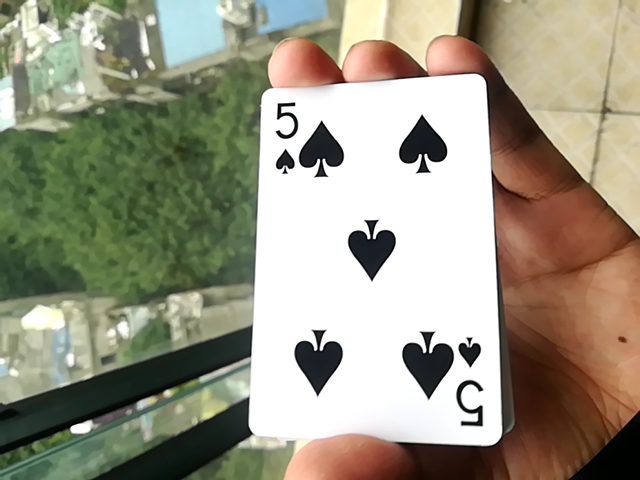ht 5: (237, 77, 501, 453)
